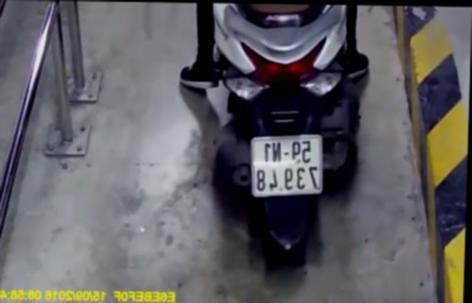License_Plate: (241, 130, 333, 204)
